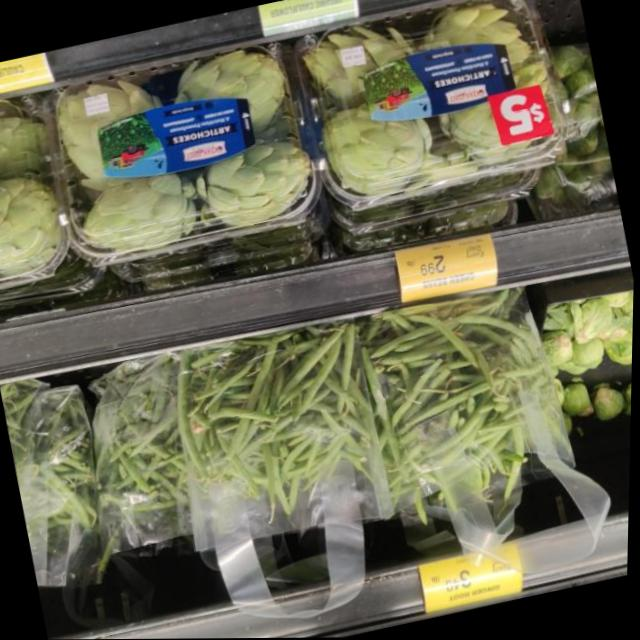Artichoke: (34, 23, 333, 270), (282, 0, 581, 204), (0, 92, 77, 284)
